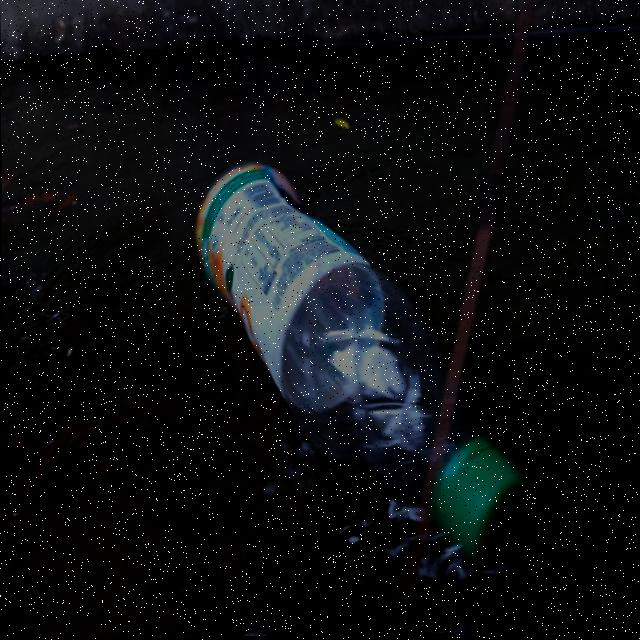leaf: (2, 376, 142, 521)
waterbottle: (171, 144, 549, 580)
